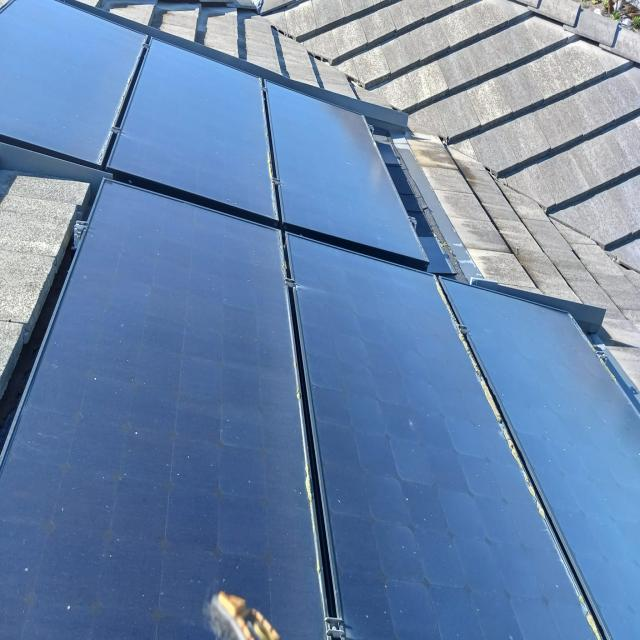dust-solar-panel: (0, 174, 609, 640)
